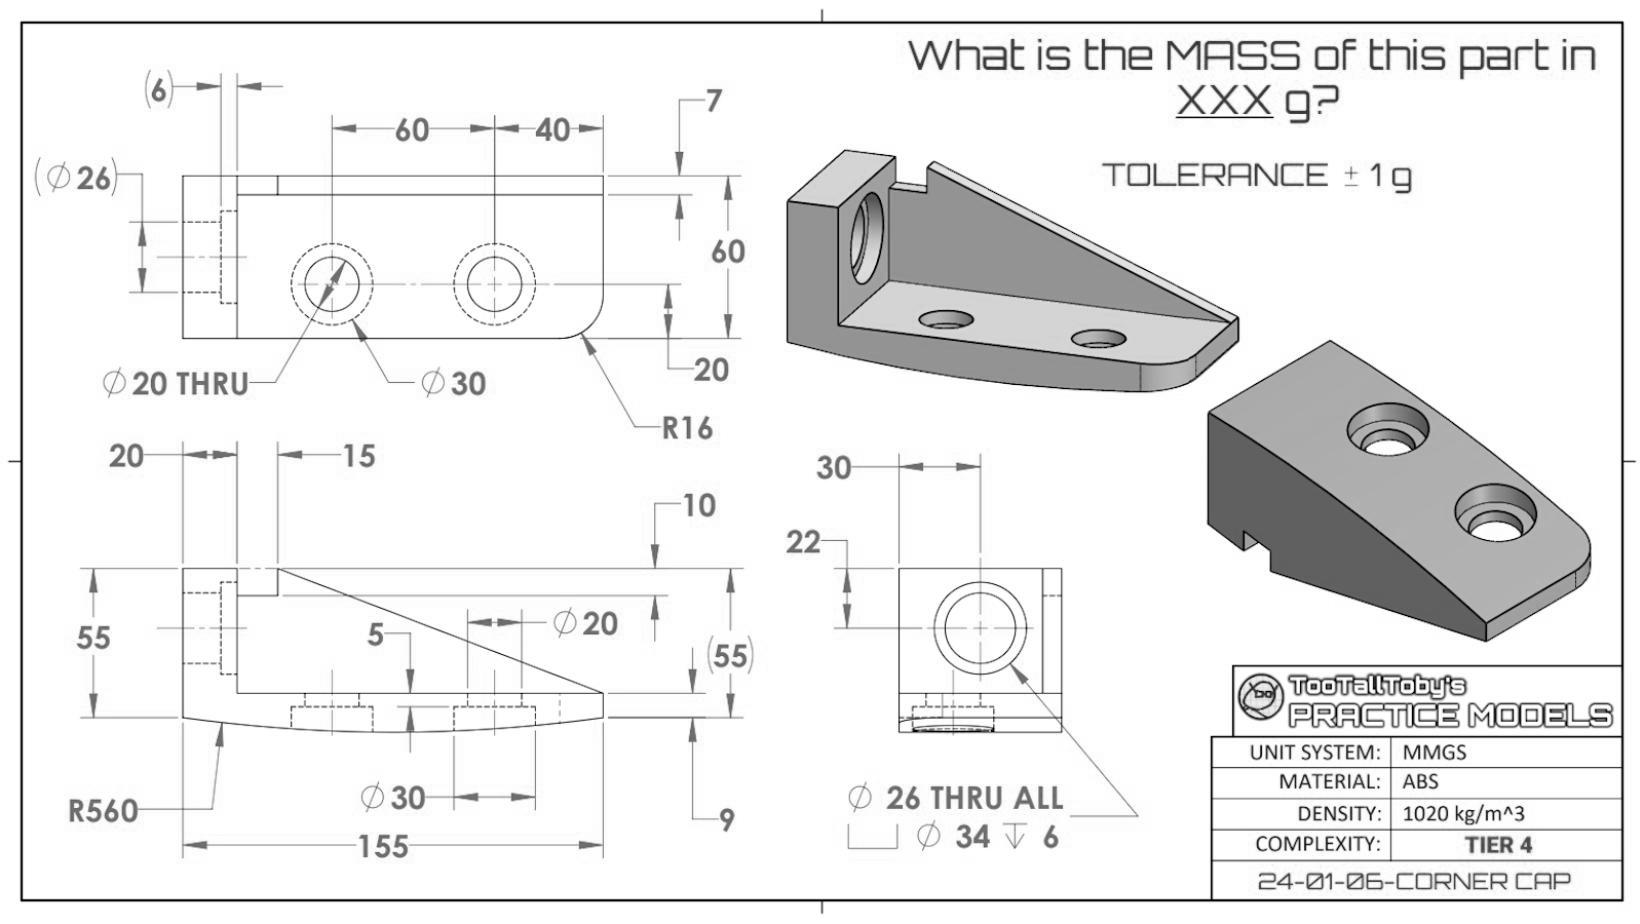-: (1340, 163, 1362, 193)
0: (697, 490, 717, 519), (467, 368, 485, 400), (552, 115, 571, 144), (121, 796, 140, 825), (411, 116, 430, 144), (711, 356, 731, 382), (727, 238, 746, 265), (126, 442, 143, 472), (600, 611, 618, 638), (151, 370, 168, 398), (408, 784, 426, 810), (1414, 806, 1426, 823), (1437, 805, 1450, 821)
1: (341, 442, 357, 470), (355, 834, 371, 861), (1371, 158, 1384, 189), (681, 415, 696, 442), (683, 490, 696, 519), (1400, 803, 1415, 823)
2: (581, 610, 600, 641), (132, 368, 151, 399), (784, 527, 803, 554), (803, 527, 822, 554), (885, 783, 903, 811), (77, 165, 96, 190), (694, 356, 712, 381), (110, 443, 126, 470), (1427, 803, 1437, 821)
3: (954, 821, 974, 850), (389, 784, 408, 811), (451, 368, 467, 399), (815, 453, 834, 481)
4: (533, 113, 553, 144), (973, 823, 991, 850)
5: (357, 441, 380, 471), (366, 618, 386, 649), (372, 832, 393, 861), (83, 797, 104, 825), (712, 642, 732, 669), (93, 624, 113, 652), (75, 622, 93, 650), (392, 834, 410, 860), (731, 640, 747, 669)
6: (1040, 823, 1062, 852), (392, 117, 412, 143), (903, 784, 922, 811), (710, 238, 728, 266), (95, 163, 113, 190), (150, 77, 168, 103), (698, 414, 714, 443), (104, 797, 121, 824)
7: (705, 87, 728, 114)
9: (719, 808, 737, 834)
ABS: (1400, 772, 1442, 791)
All: (1013, 782, 1067, 812)
Density: (1298, 802, 1382, 825)
Depth: (1000, 820, 1030, 849), (834, 454, 850, 481)
Diameter: (845, 780, 874, 815), (44, 159, 72, 195), (99, 365, 127, 399), (420, 364, 447, 399), (360, 780, 387, 814), (916, 819, 943, 853), (551, 605, 578, 638)
MMGS: (1402, 744, 1470, 761)
Material: (1277, 771, 1382, 794)
Radius: (68, 797, 87, 825), (665, 415, 681, 442)
Thru: (175, 370, 249, 400), (928, 784, 1002, 811)
UnitSystem: (1248, 741, 1382, 761)
X: (1239, 81, 1276, 116), (1176, 83, 1210, 116), (1207, 82, 1240, 115)
grams: (1282, 88, 1313, 126), (1390, 166, 1416, 196)
